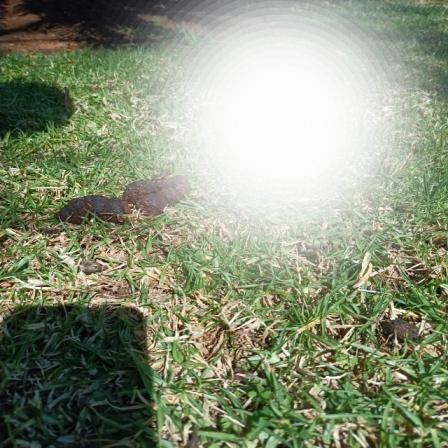dog-poop: (64, 166, 191, 220)
